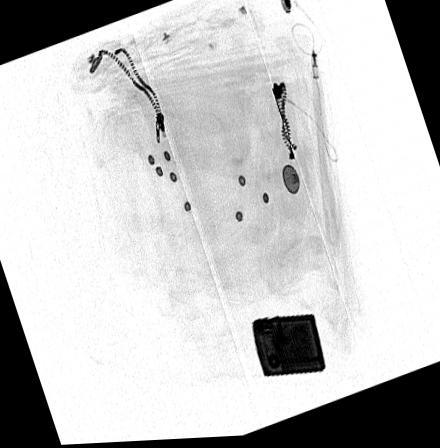Lighter: (251, 318, 327, 380)
